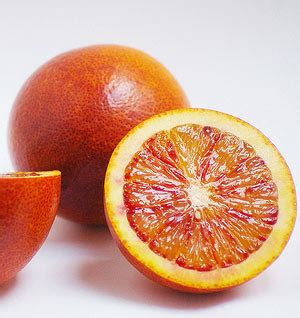orange: (5, 44, 199, 229)
